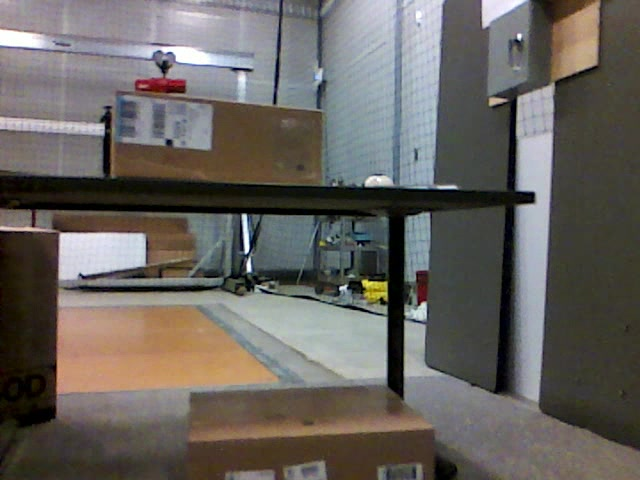box: (189, 392, 438, 480), (113, 92, 323, 188), (1, 226, 57, 432)
